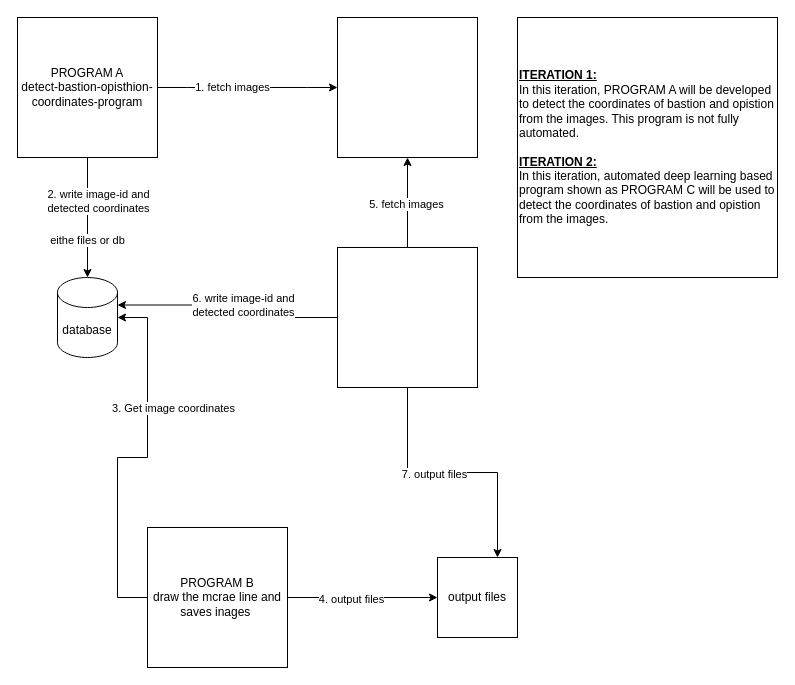
This 795x685 diagram has some shape labels left out. The shapes that lost their labels are listed below. From the top down, each one's box as (x1, y1, x2, y2) in pixels, then its label:
(336, 16, 478, 158): detect-bastion-opisthion-coordinates-program
(336, 246, 478, 388): PROGRAM C detect-bastion-opisthion-coordinates-program
